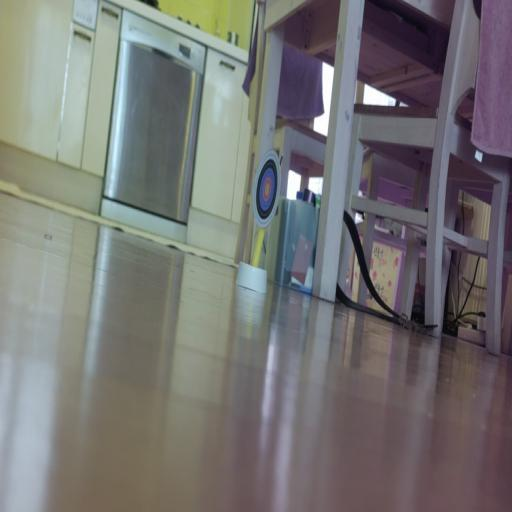target: (253, 149, 280, 228)
